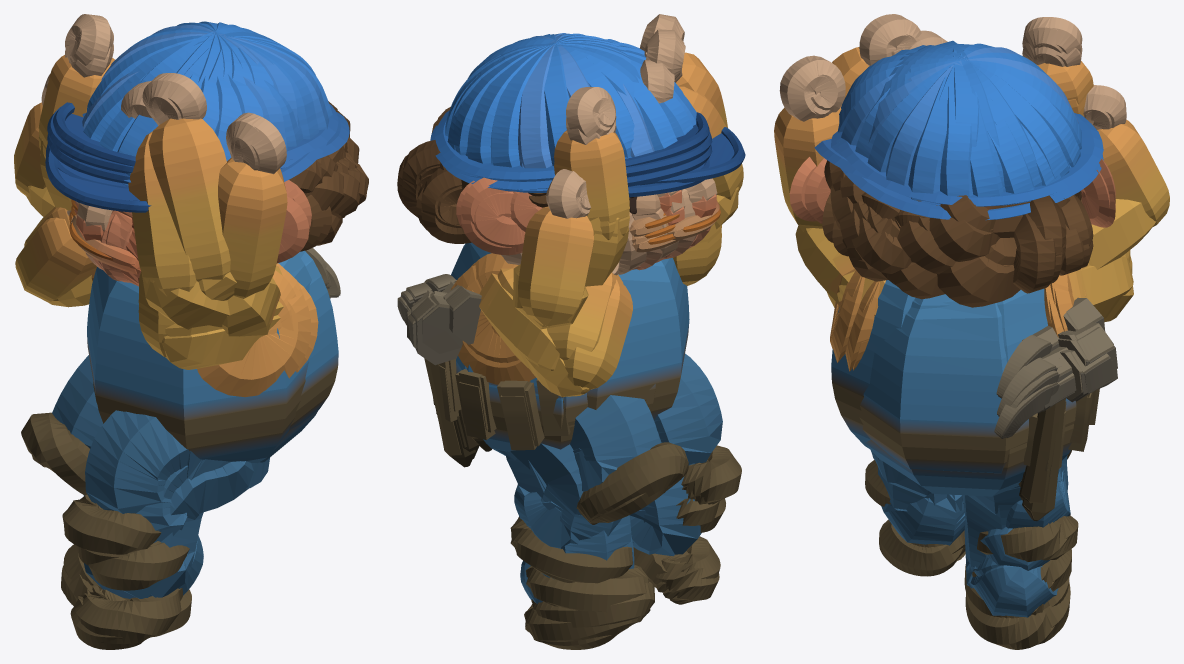
The model's file is Worker_climb2.fbx.
3 views of the same model, side by side, from view 1: azimuth 30°, elevation 25°; view 2: azimuth 150°, elevation 25°; view 3: azimuth 270°, elevation 25° (orthographic). The views are drawn at different scales.
Parts seen in each view (by area): view 1: Climb2; view 2: Climb2; view 3: Climb2.
Part boxes in pixels (bbox=[...]): Climb2: bbox=[14, 14, 368, 649]; Climb2: bbox=[397, 14, 745, 649]; Climb2: bbox=[774, 14, 1169, 649].
Size of the model in its own units: 1.25 by 2.27 by 1.35.
